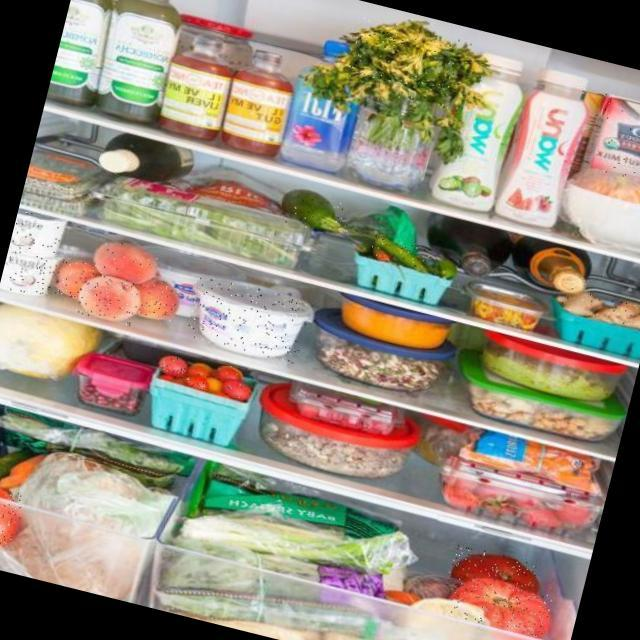Yogur: (185, 275, 311, 365), (8, 209, 65, 263), (0, 249, 57, 300)
courgettes: (277, 186, 352, 237)
ginger: (555, 286, 601, 318), (593, 296, 640, 327)
green chilies: (368, 235, 431, 269), (432, 255, 458, 278)
milk: (583, 90, 640, 192)
parsley: (343, 16, 481, 114)
peach: (74, 270, 143, 327), (91, 237, 160, 287), (134, 278, 181, 324), (50, 255, 95, 301)
tomato paste: (449, 571, 553, 639), (448, 543, 539, 594), (0, 474, 26, 546), (220, 377, 253, 400), (158, 355, 189, 379), (183, 371, 211, 391), (217, 364, 240, 384)
